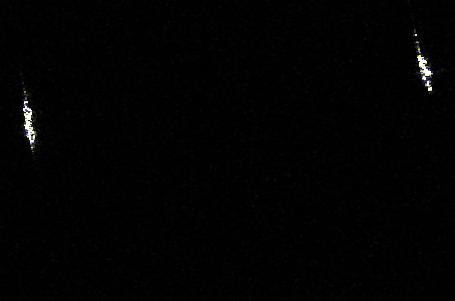ship: (19, 98, 41, 151), (416, 53, 436, 92)
